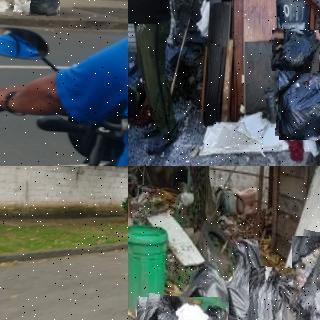Garbage: (217, 234, 267, 320), (176, 258, 232, 320), (245, 266, 309, 320), (277, 69, 320, 141), (286, 232, 320, 320), (271, 29, 320, 72), (24, 0, 61, 16), (3, 0, 31, 14), (0, 0, 14, 14)
